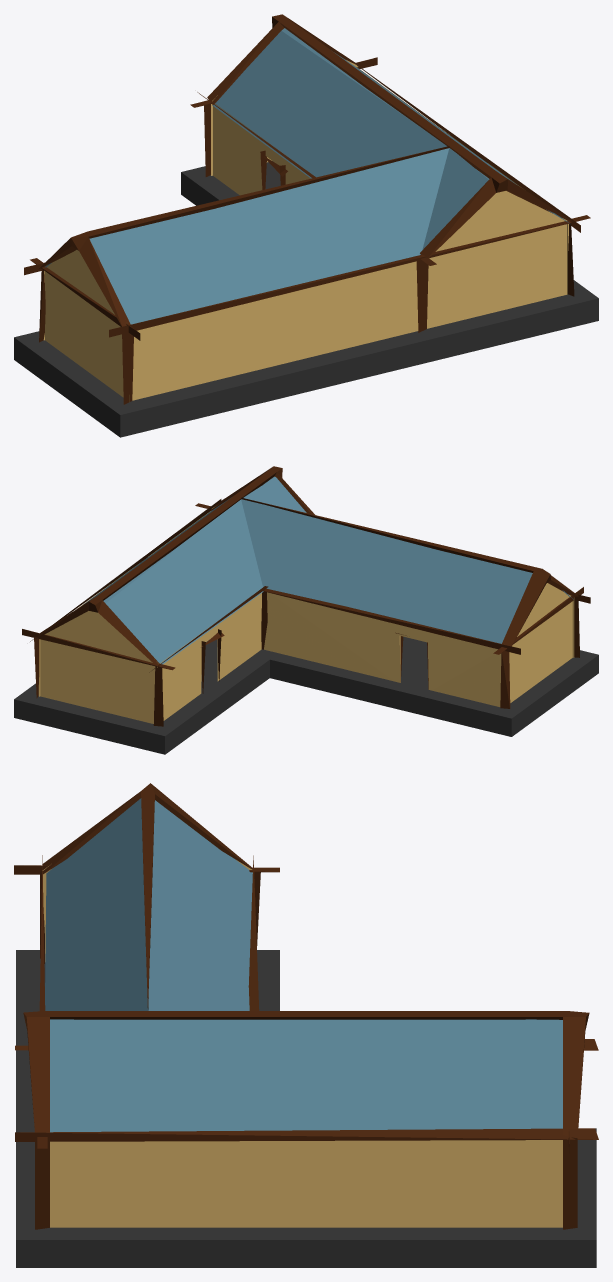
File: LOD_City_SmallHouse02_LOD2.fbx
The picture shows the model from 3 angles, top to bottom: view 1: azimuth 30°, elevation 25°; view 2: azimuth 150°, elevation 25°; view 3: azimuth 270°, elevation 25°; orthographic projection. The views are drawn at different scales.
Visible parts, largest first — view 1: MBS_City_SmallHouse02_LOD2; view 2: MBS_City_SmallHouse02_LOD2; view 3: MBS_City_SmallHouse02_LOD2.
Part boxes in pixels (box(x1,y1,x2,y2)): MBS_City_SmallHouse02_LOD2: box(14, 14, 598, 437); MBS_City_SmallHouse02_LOD2: box(14, 466, 598, 754); MBS_City_SmallHouse02_LOD2: box(14, 783, 598, 1267).
Size of the model in its own units: 2612 by 829 by 2217.
